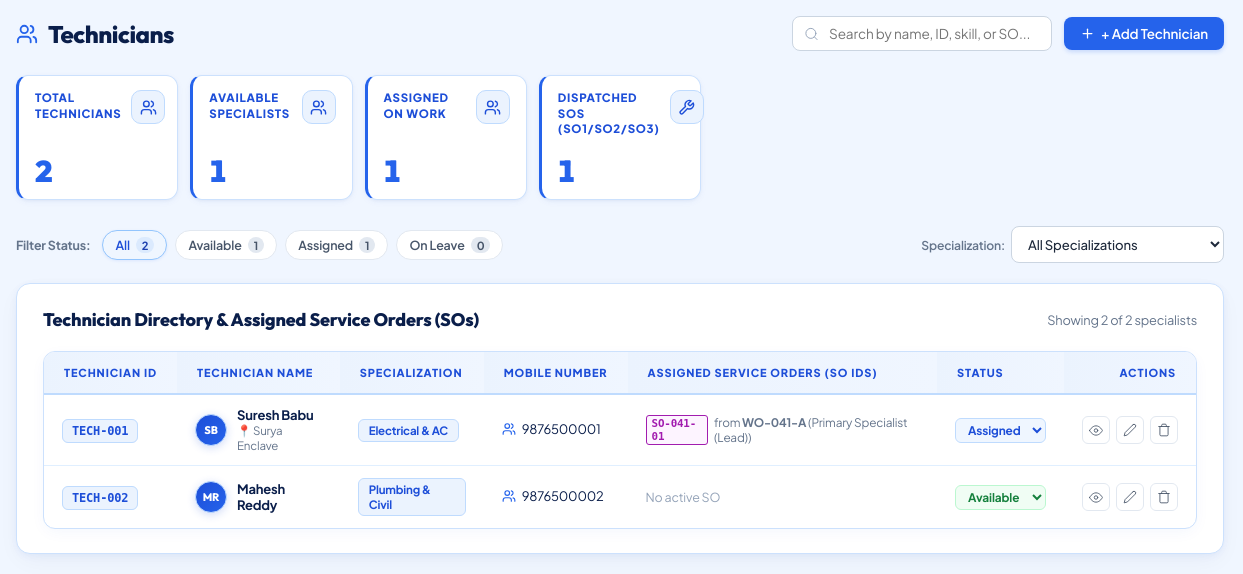
Technicians CRUD Operations & Management › supports search query and status filter pills
Filter by Assigned
Click the button "Assigned 1": (337, 244) [285,230,388,260]
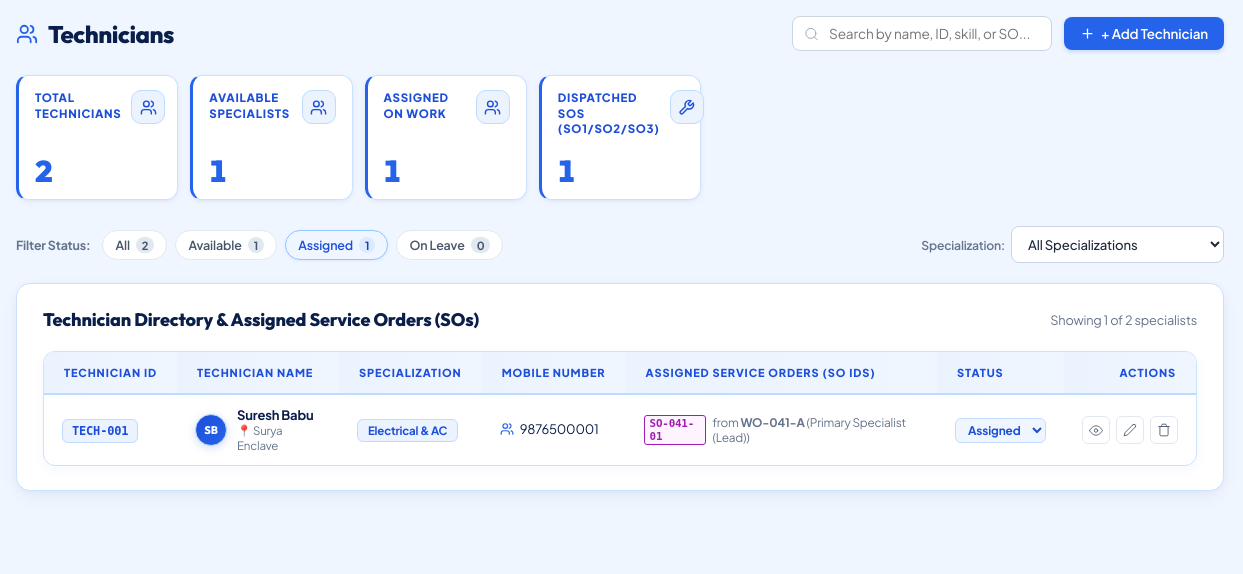
expect the text "Suresh Babu" is shown: met, box [237,407,314,423]
expect the text "Mahesh Reddy" is gone: met
Switch back to All
Click the button "All 2": (135, 244) [102,230,167,260]
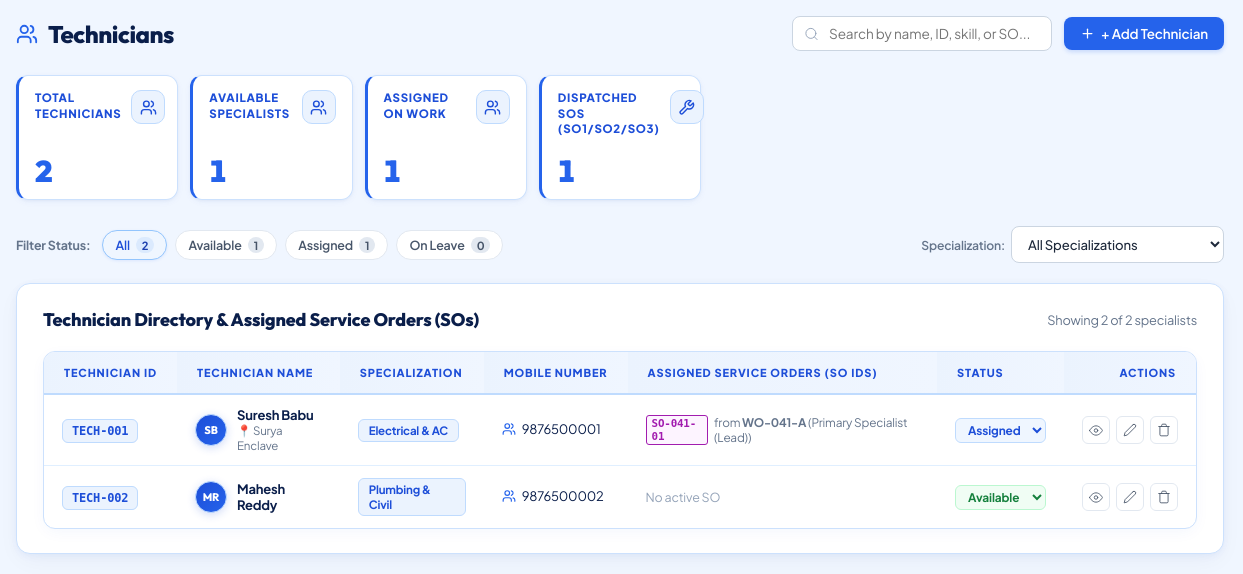
expect the text "Mahesh Reddy" is shown: met, box [237,481,285,513]
Search for "Suresh"
In the field with placeholder "Search by name, ID, skill, or SO...": (922, 34) [792,16,1052,51], type "Suresh"
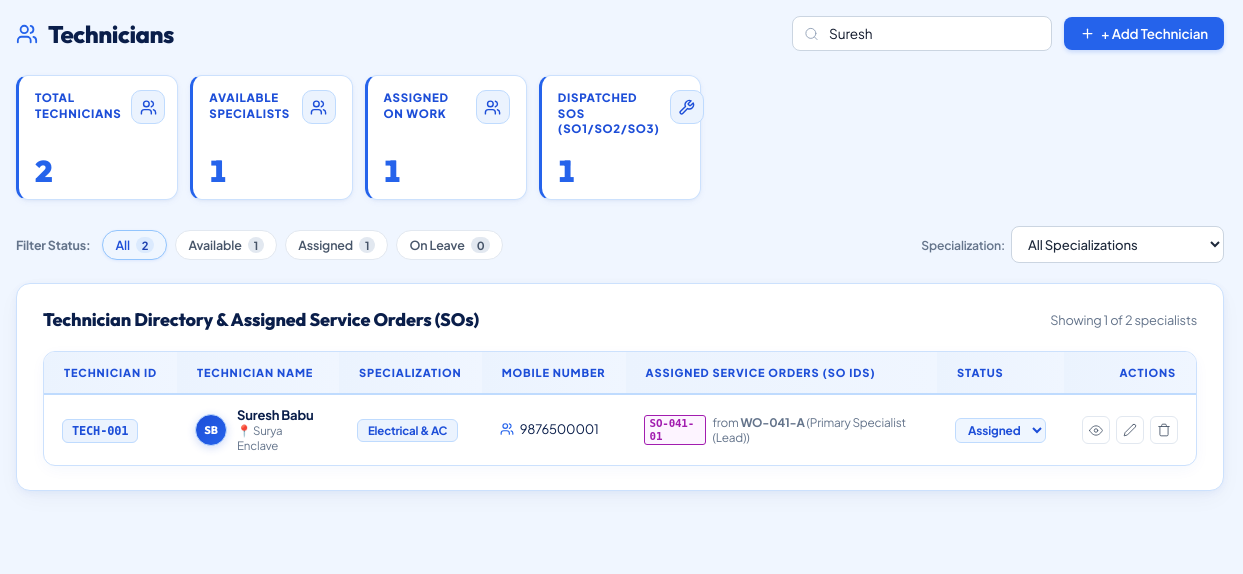
expect the text "Suresh Babu" is shown: met, box [237,407,314,423]
expect the text "Mahesh Reddy" is gone: met
